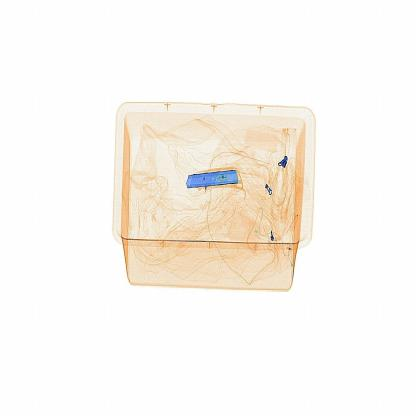pliers: (180, 158, 254, 204)
